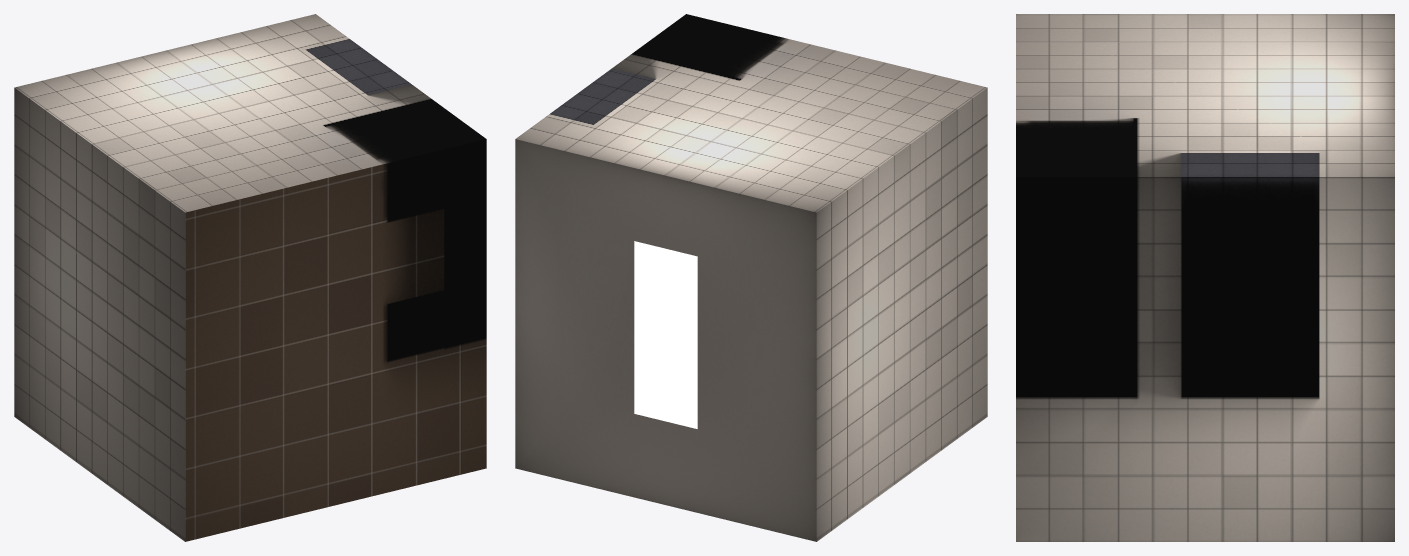
Rendered from Lab.dae.
3 renders of one model, left to right at view 1: azimuth 30°, elevation 25°; view 2: azimuth 150°, elevation 25°; view 3: azimuth 270°, elevation 25°, orthographic. The views are drawn at different scales.
Parts seen in each view (by area): view 1: Lab; view 2: Lab; view 3: Lab.
Boxes of the visible parts, box(x1,y1,x2,y2) form: Lab: box(14, 14, 486, 541); Lab: box(515, 14, 987, 541); Lab: box(1016, 14, 1394, 541).
Size of the model in its own units: 2.88 by 2.83 by 3.01.
2 materials, 1 textured.
